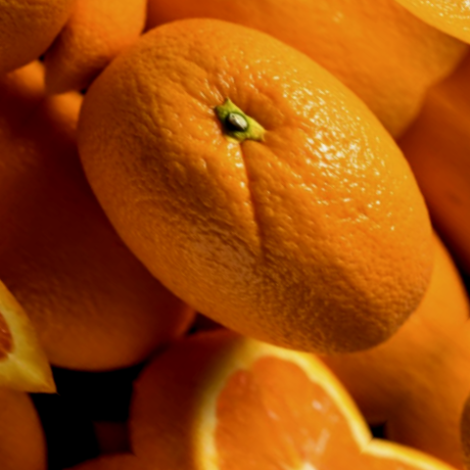orange: (0, 0, 470, 446)
